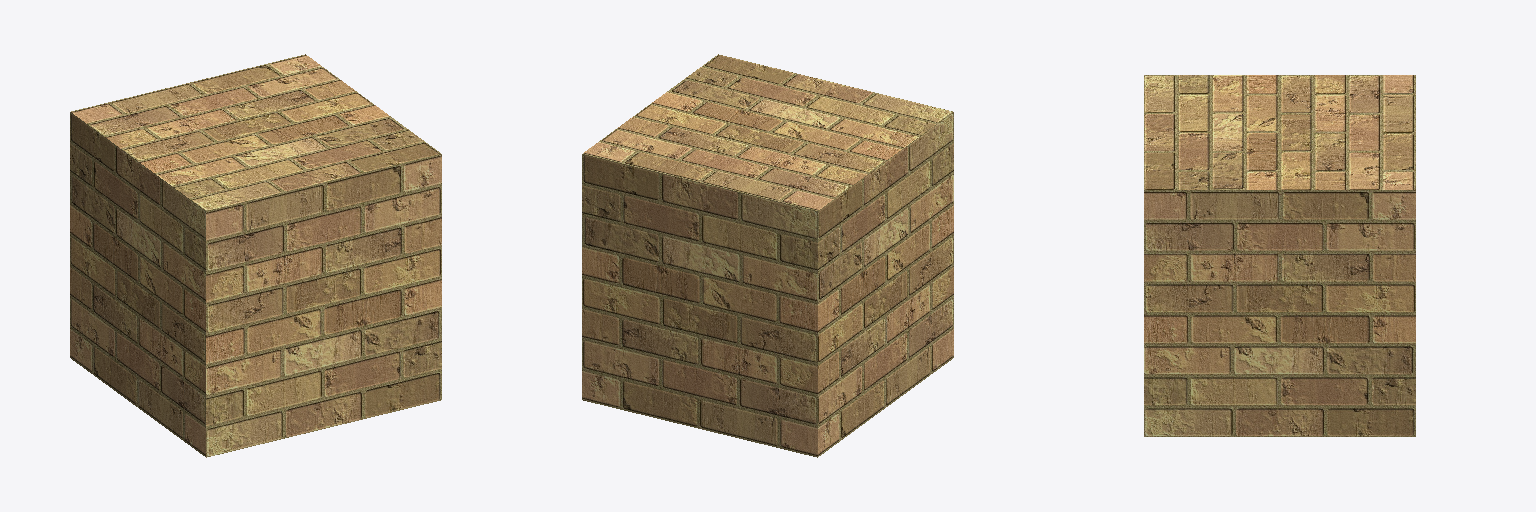
3 renders of one model, left to right at view 1: azimuth 30°, elevation 25°; view 2: azimuth 150°, elevation 25°; view 3: azimuth 270°, elevation 25°, orthographic.
Parts seen in each view (by area): view 1: Cube; view 2: Cube; view 3: Cube.
Part boxes in pixels (bbox=[...]): Cube: bbox=[70, 54, 441, 457]; Cube: bbox=[582, 54, 953, 457]; Cube: bbox=[1144, 75, 1415, 436].
Size of the model in its own units: 1 by 1 by 1.
1 materials, 1 textured.